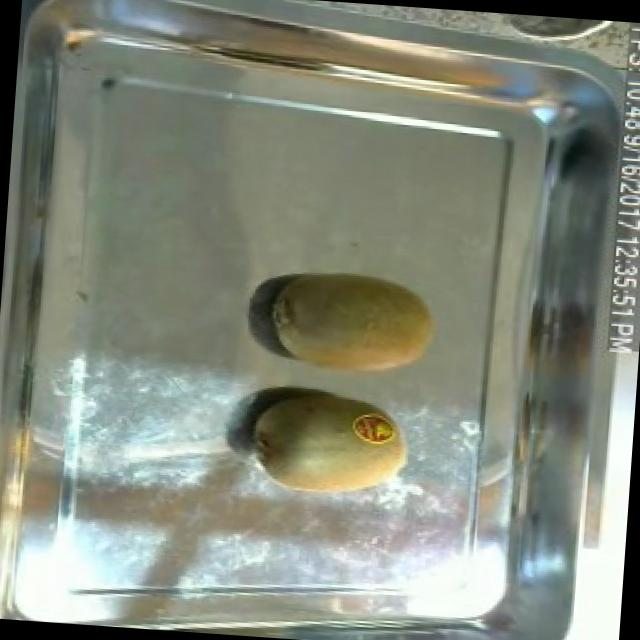Fruit: (254, 255, 448, 392), (236, 377, 420, 511)
